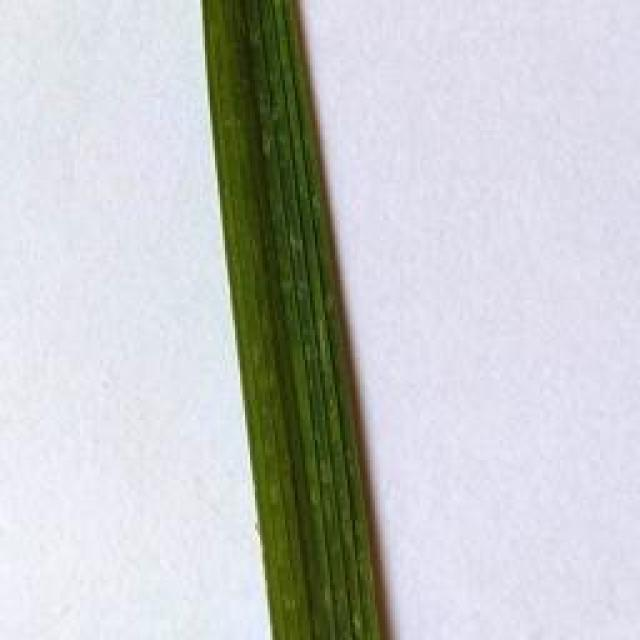Healthy-Plant: (198, 0, 384, 640)
